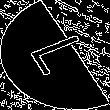L_NE: (16, 30, 94, 80)
